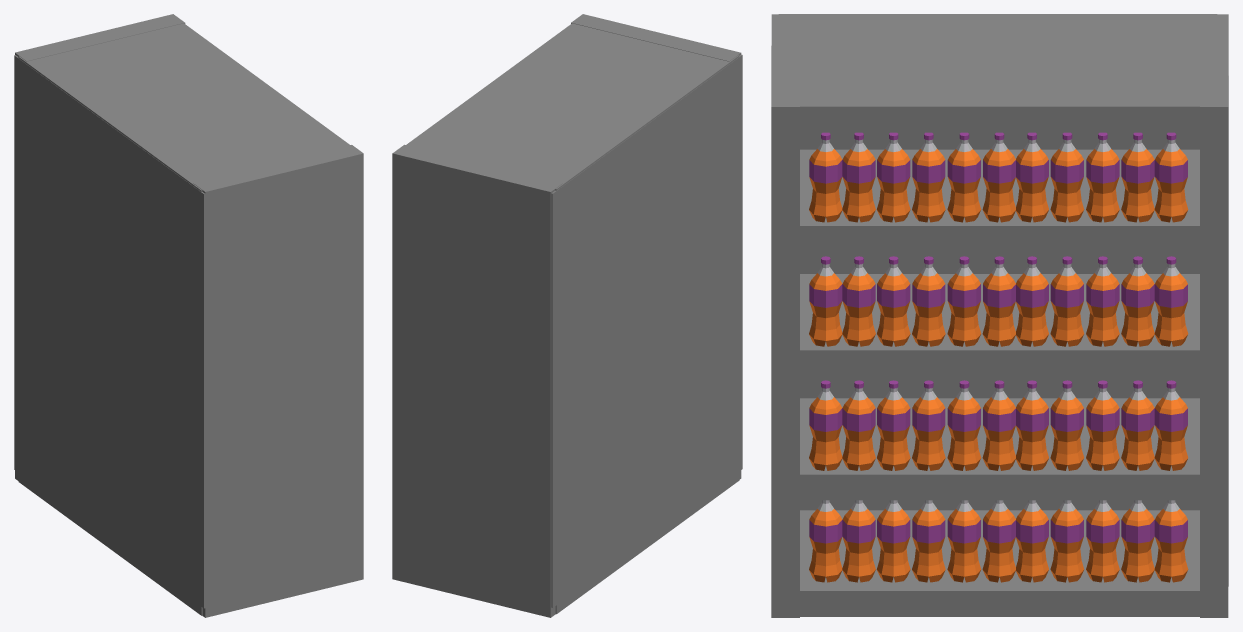
Rendered from orange_twist_shelf.gltf.
3 views of the same model, side by side, from view 1: azimuth 30°, elevation 25°; view 2: azimuth 150°, elevation 25°; view 3: azimuth 270°, elevation 25° (orthographic). The views are drawn at different scales.
Visible parts, largest first — view 1: Cube.030; view 2: Cube.030; view 3: Cube.030.
Boxes of the visible parts, left/top/right/bottom form: Cube.030: left=14, top=14, right=363, bottom=617; Cube.030: left=392, top=14, right=742, bottom=617; Cube.030: left=771, top=14, right=1228, bottom=617.
Size of the model in its own units: 4.03 by 10.28 by 8.34.
Materials: 4 (1 with a texture image).
